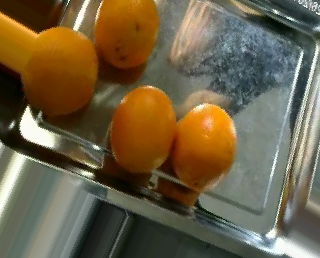Orange: (110, 85, 176, 171), (174, 102, 236, 189), (93, 1, 160, 69)
